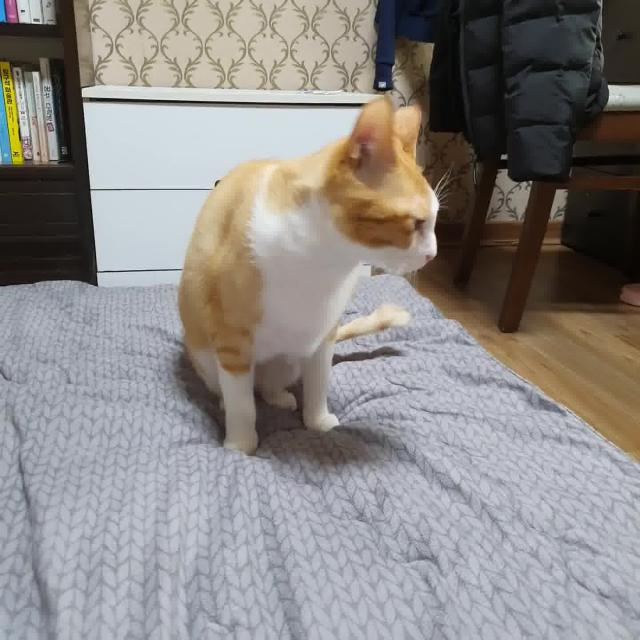cat: (169, 92, 455, 464)
